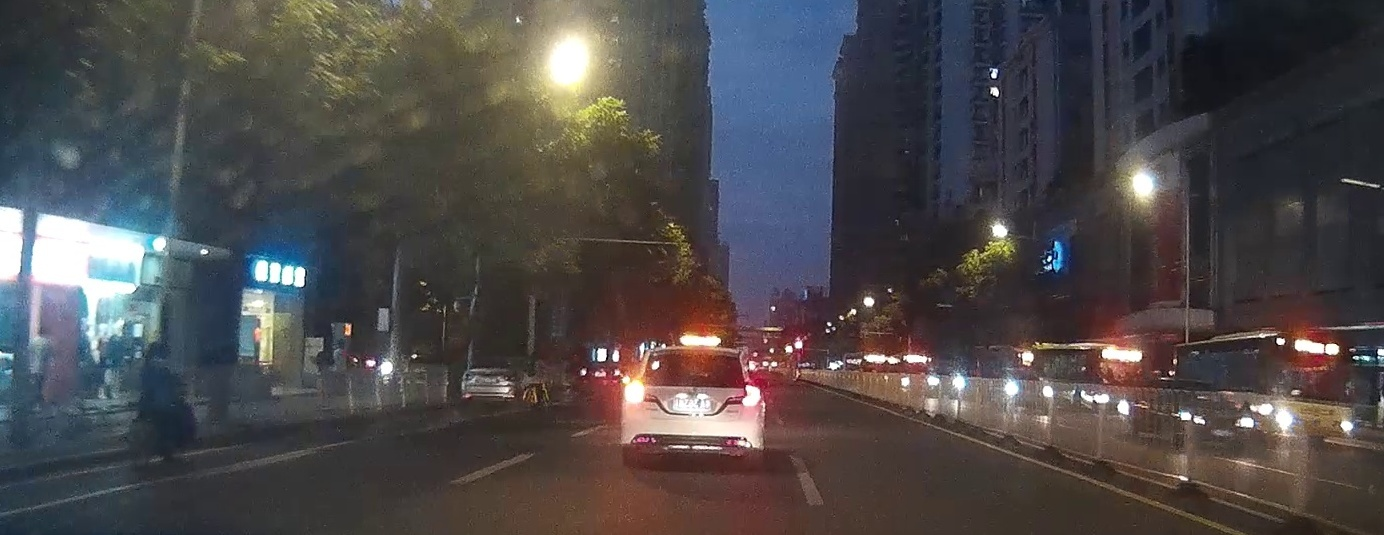L_light: (623, 381, 645, 404)
R_light: (744, 386, 761, 406)
T_light: (685, 353, 708, 358)
night-no: (619, 345, 765, 463)
